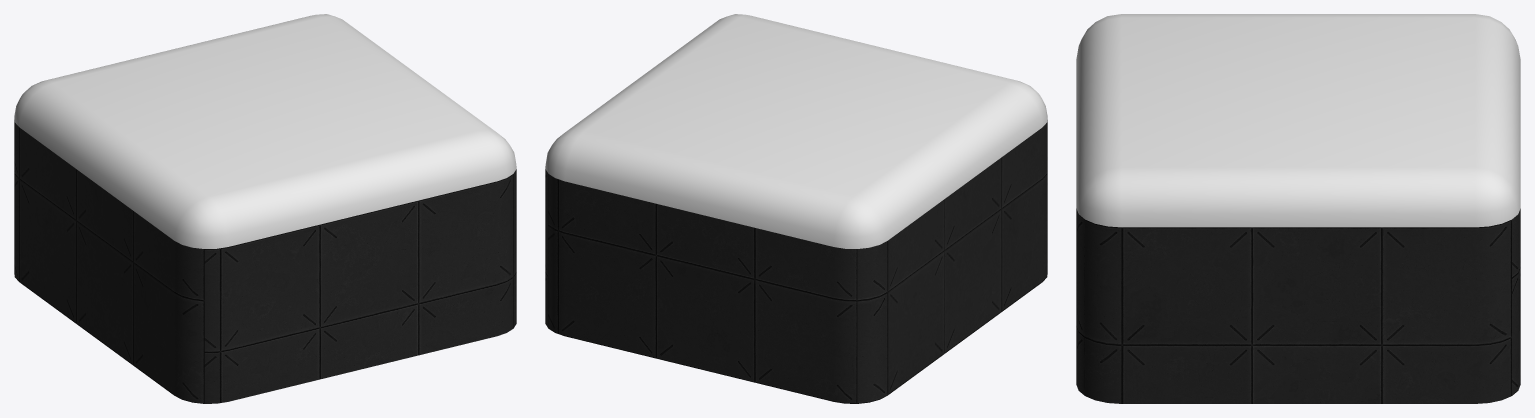
The model's file is env2 1.fbx.
3 renders of one model, left to right at view 1: azimuth 30°, elevation 25°; view 2: azimuth 150°, elevation 25°; view 3: azimuth 270°, elevation 25°, orthographic. The views are drawn at different scales.
Visible parts, largest first — view 1: Cube.002, Cube.001; view 2: Cube.002, Cube.001; view 3: Cube.001, Cube.002.
Part boxes in pixels (x1,y1,x2,y2): Cube.002: (14, 120, 516, 403); Cube.001: (14, 14, 516, 248); Cube.002: (545, 120, 1047, 403); Cube.001: (545, 14, 1047, 248); Cube.001: (1076, 14, 1520, 227); Cube.002: (1076, 208, 1520, 403).
Size of the model in its own units: 4211 by 2276 by 4211.
2 materials, 1 textured.
